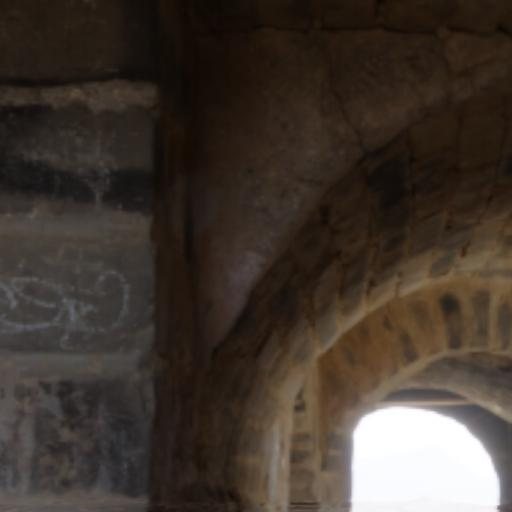nothing: (2, 3, 512, 512)
